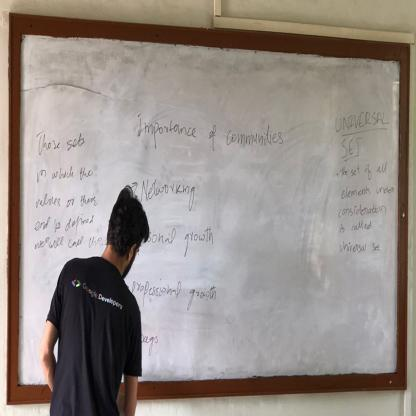Handwritten text: (135, 104, 287, 159), (128, 275, 222, 321), (142, 222, 216, 259), (140, 170, 199, 213), (34, 123, 89, 157), (30, 187, 99, 211), (34, 161, 97, 187), (29, 234, 106, 255), (34, 213, 97, 236), (332, 108, 392, 132), (337, 179, 396, 201), (333, 236, 383, 258), (337, 162, 392, 181), (336, 200, 389, 219), (337, 133, 369, 160), (334, 218, 377, 238), (136, 325, 161, 358)
Lecturer: (37, 183, 147, 410)
Whiteboard: (15, 28, 402, 391)
